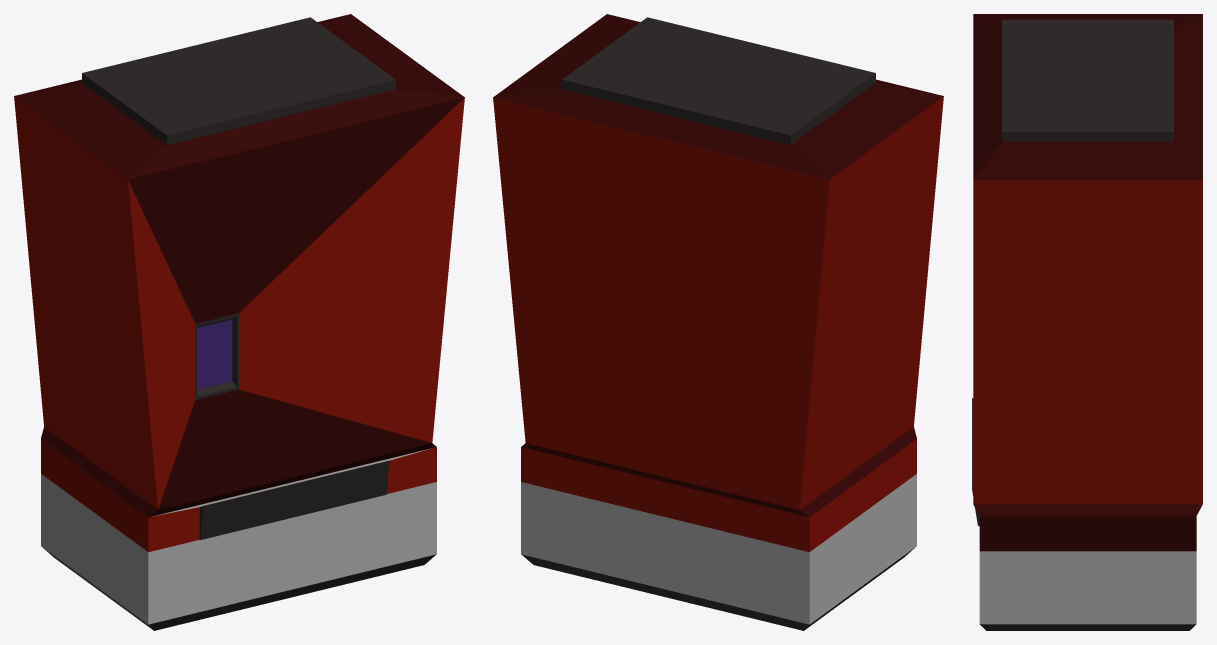
The model's file is Red_VendingMachine.fbx.
3 renders of one model, left to right at view 1: azimuth 30°, elevation 25°; view 2: azimuth 150°, elevation 25°; view 3: azimuth 270°, elevation 25°, orthographic.
Visible parts, largest first — view 1: pCube1; view 2: pCube1; view 3: pCube1.
Part boxes in pixels (<box>): pCube1: <box>14,14,464,630</box>; pCube1: <box>493,14,943,630</box>; pCube1: <box>972,14,1202,630</box>.
Bounding box in the file's own units: 14.07 × 19.35 × 8.29.
